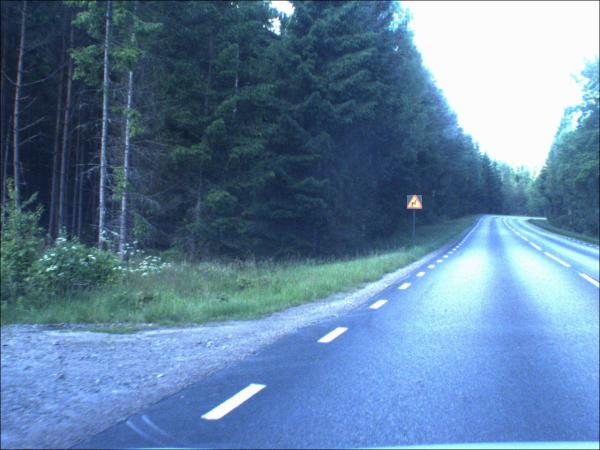WARNING: (407, 196, 423, 211)
